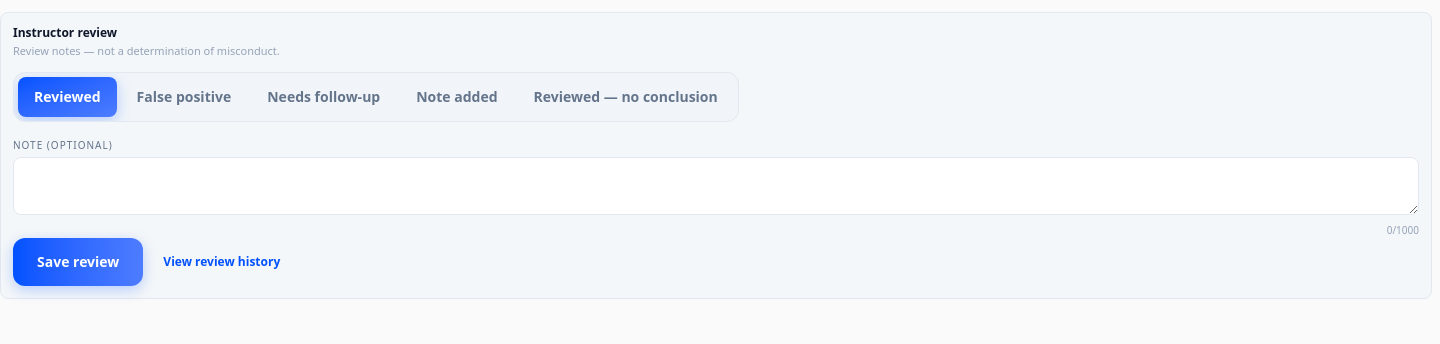
Test: AlertReviewForm history disclosure (§3.4) › shows the honest empty state when no reviews exist
Click the button "View review history": click(222, 262) [155,250,288,274]
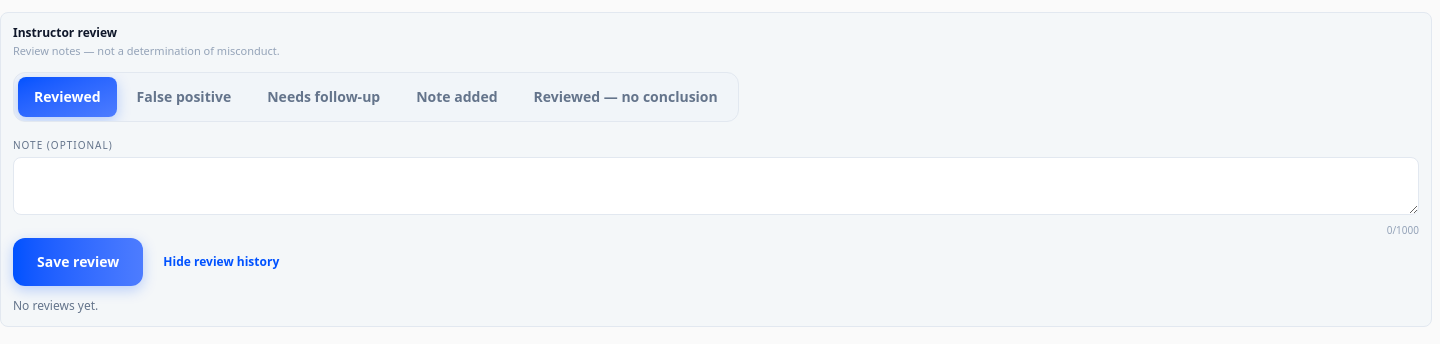
Expected: the text "No reviews yet." is shown, [13,296,98,314]
